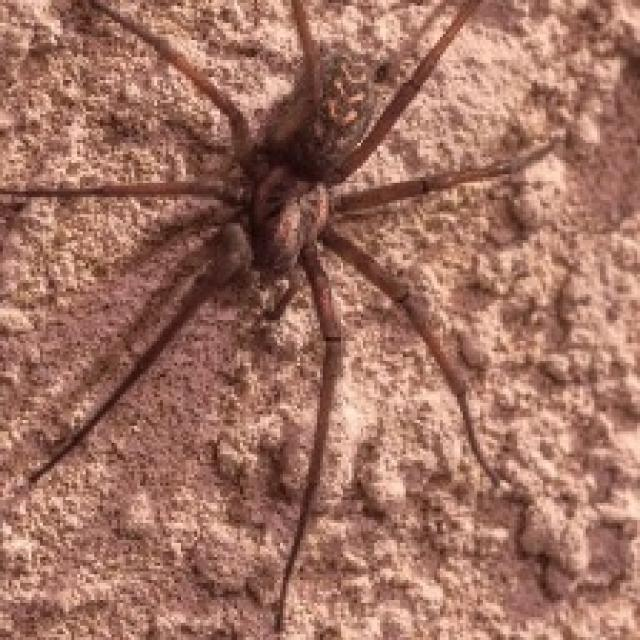Non venomous spider: (6, 9, 585, 640)
